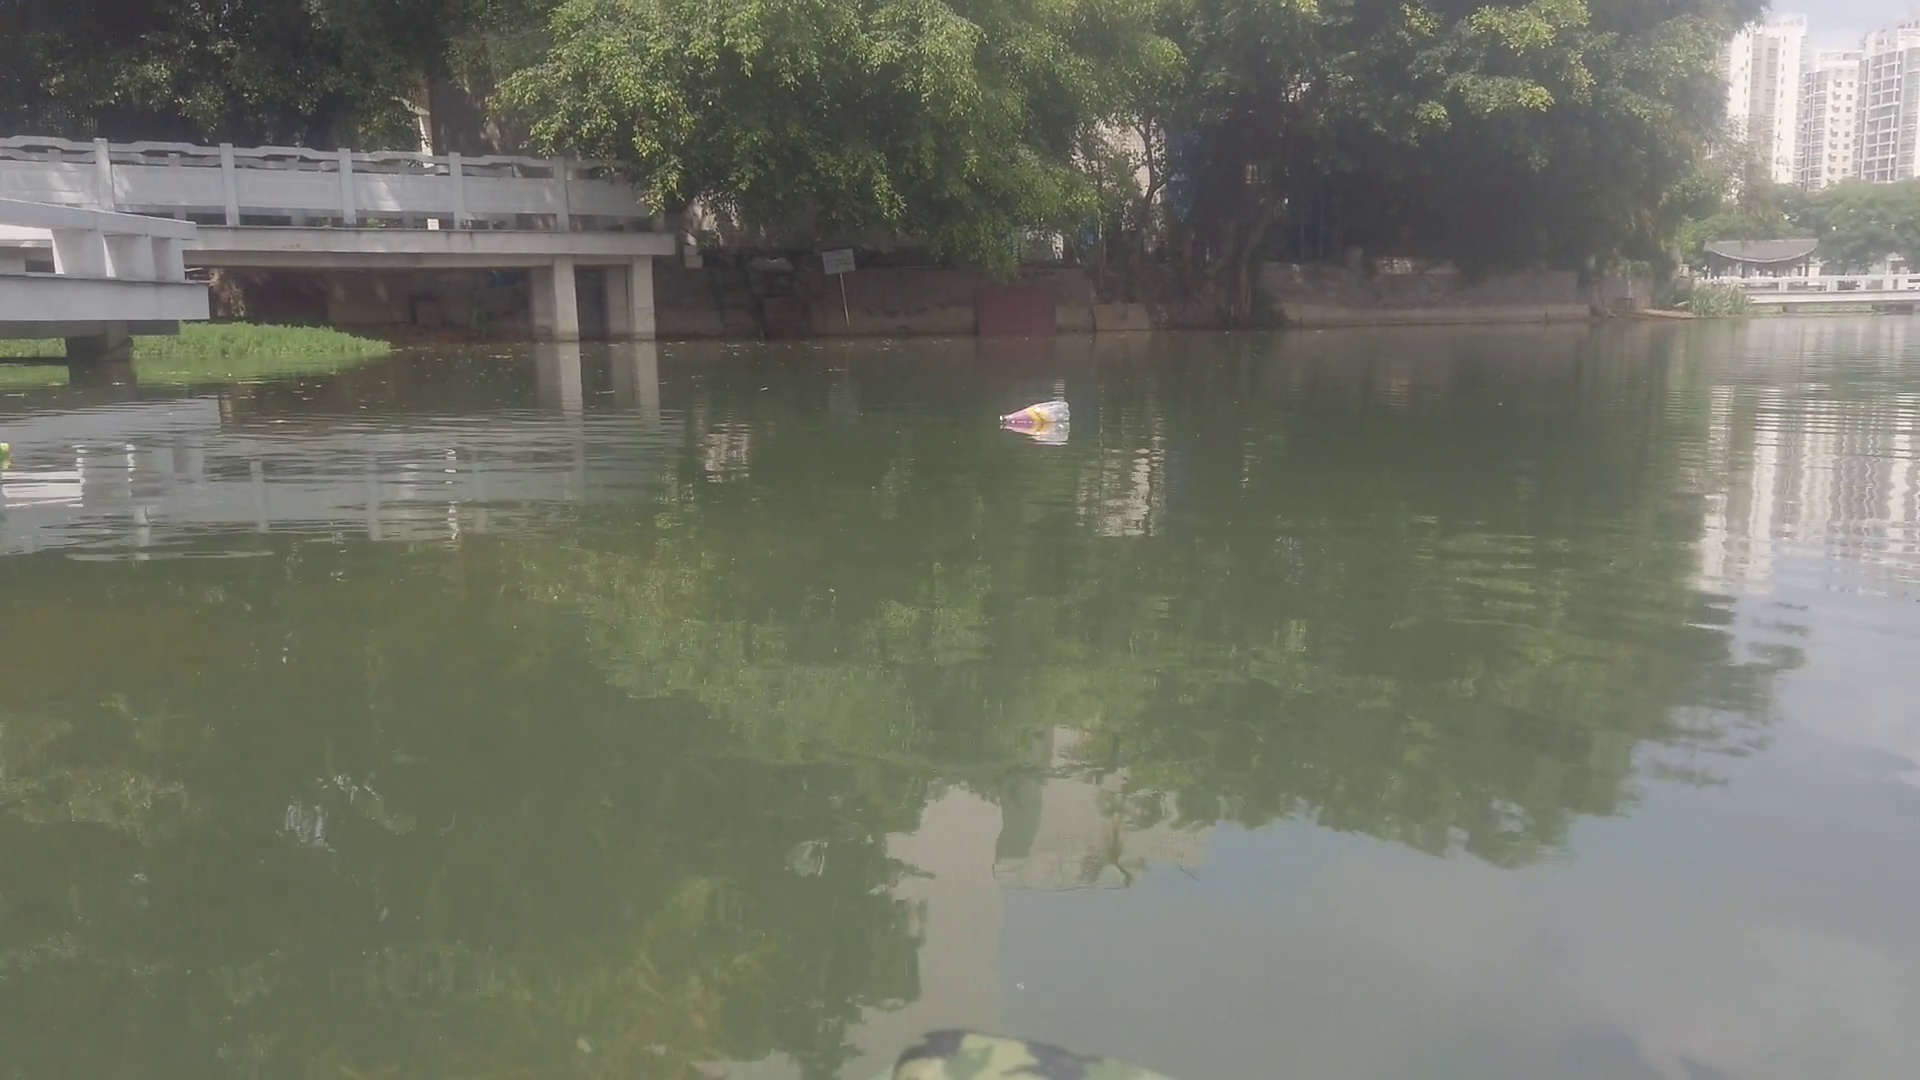bottle: (996, 400, 1076, 425)
